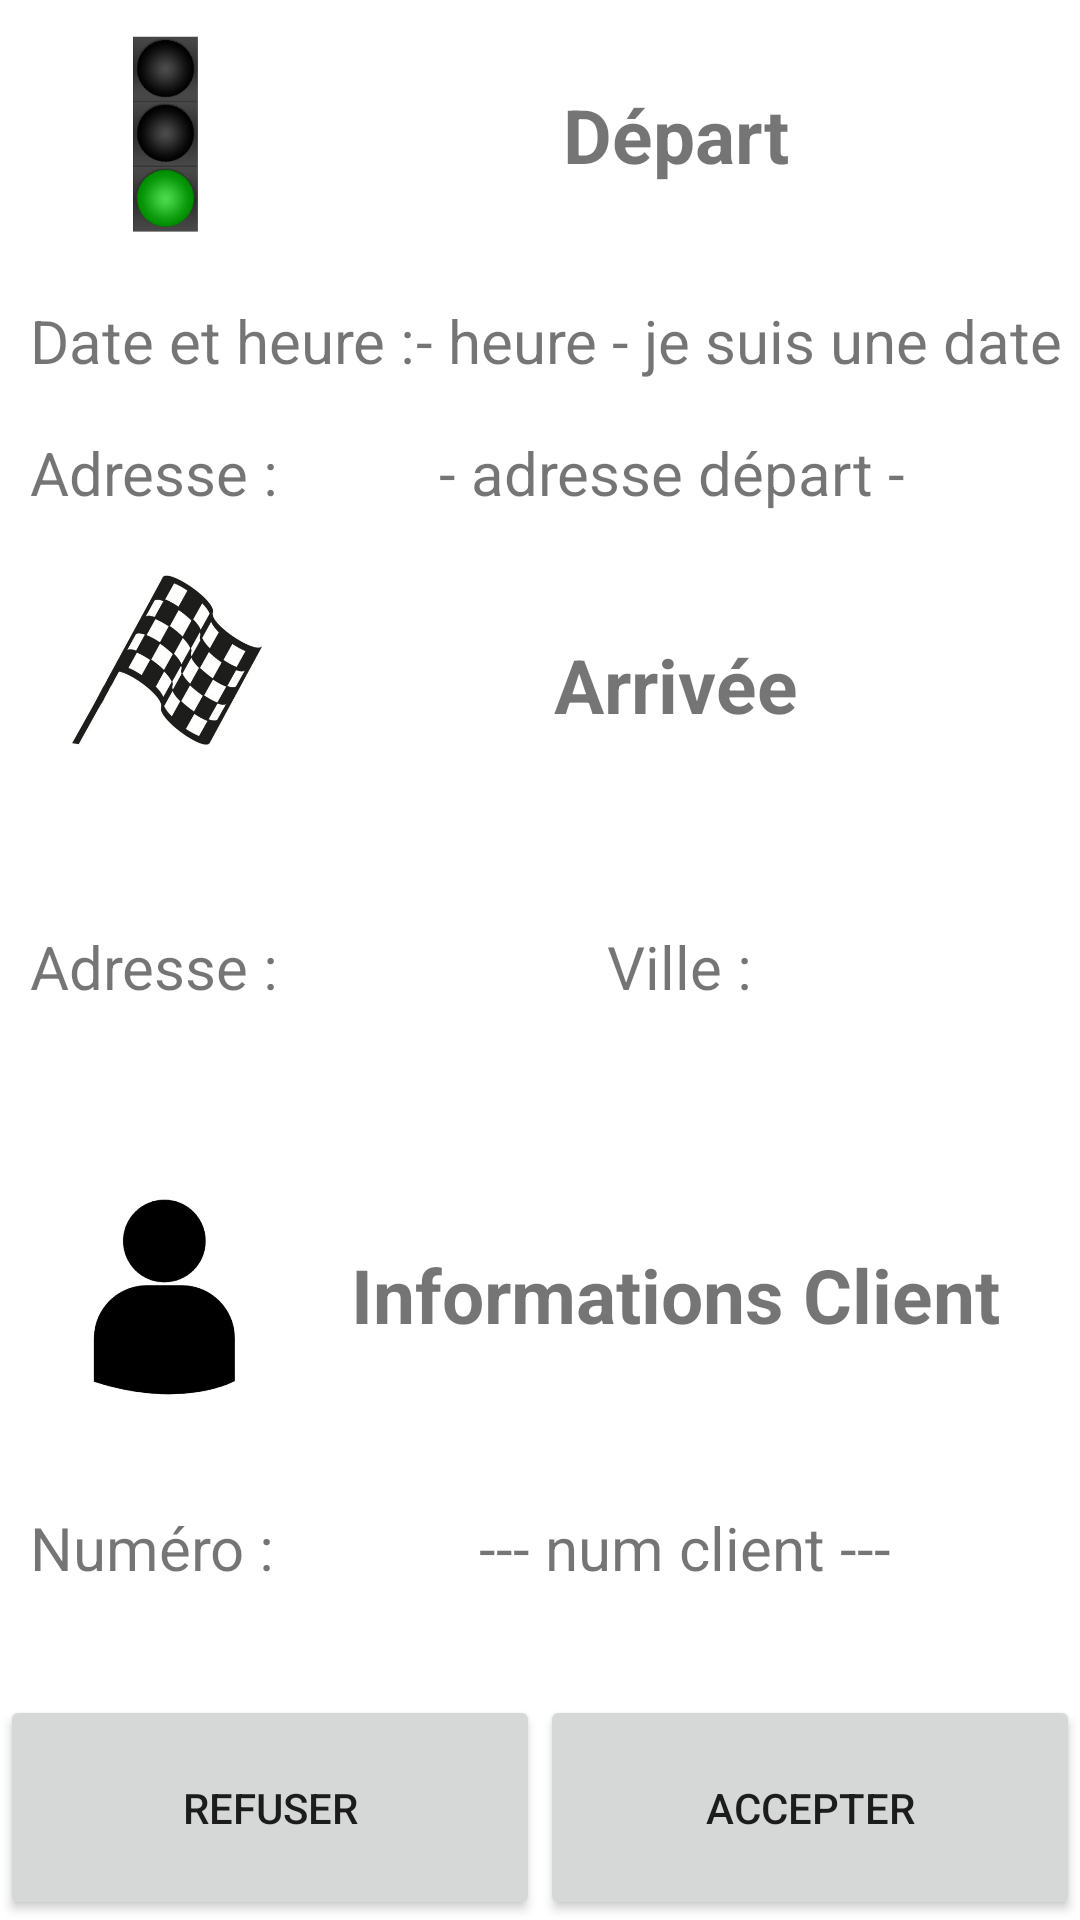

Icons on this 1080 x 1920 Android screen, each with the point to tap as [x,y]:
drapeau arrivee: [167,660]
feuvert: [165,134]
